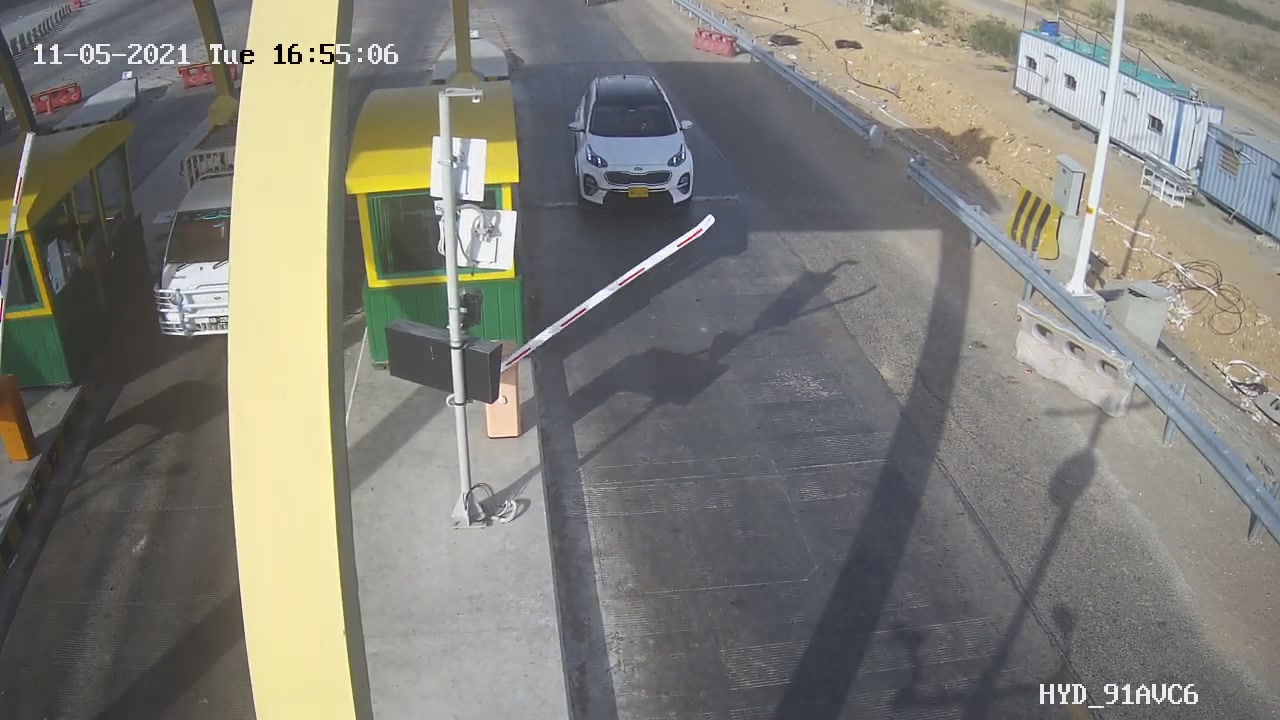F1: (553, 61, 720, 226)
